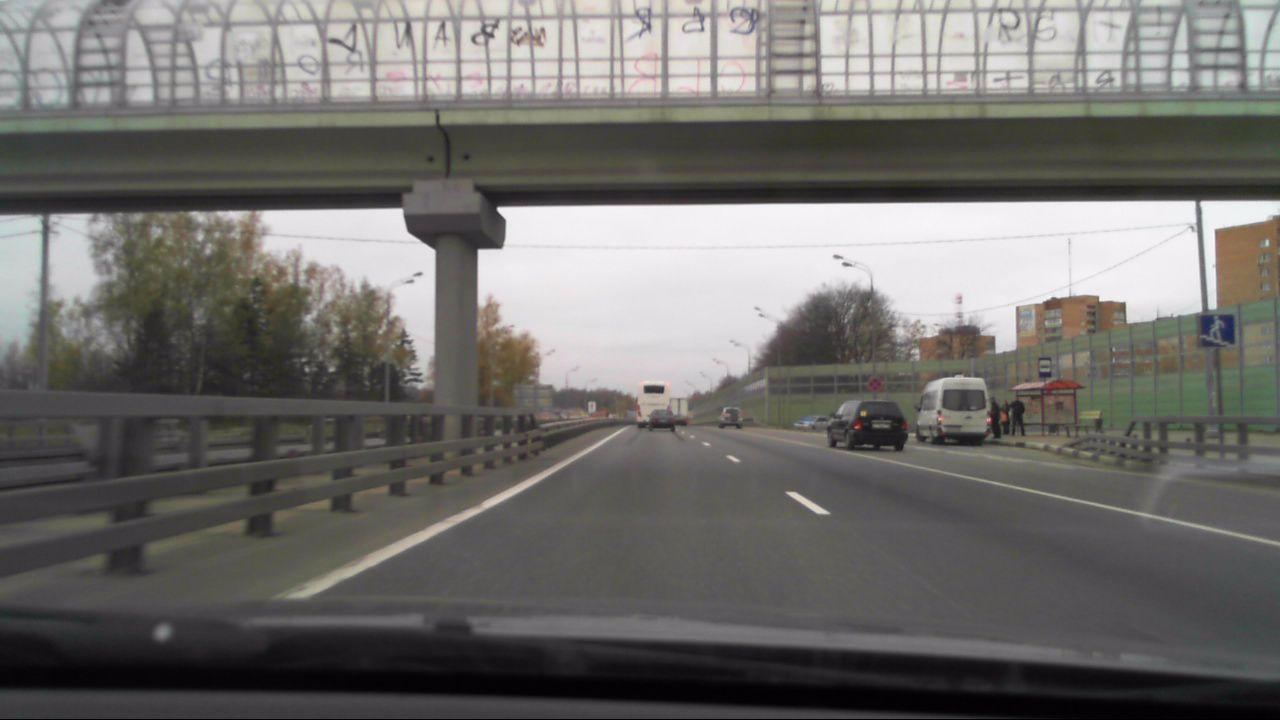3_27: (866, 375, 883, 390)
5_16: (1037, 356, 1052, 375)
6_7: (1201, 314, 1234, 348)
